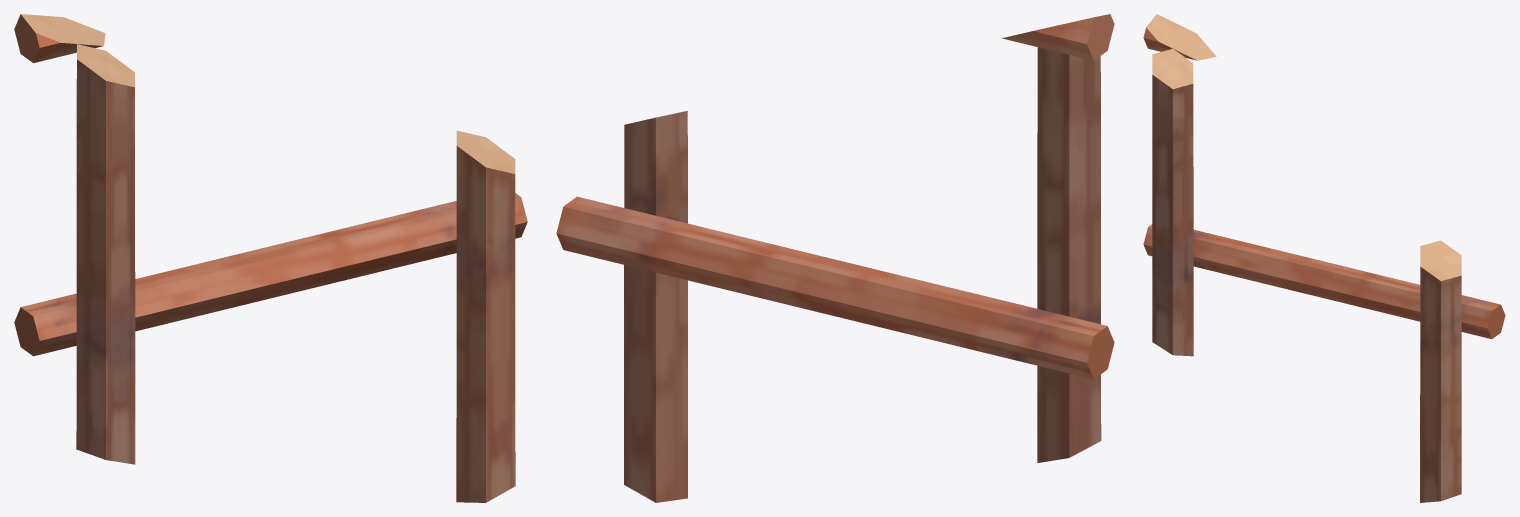
The model's file is ladder_s04.fbx.
3 views of the same model, side by side, from view 1: azimuth 30°, elevation 25°; view 2: azimuth 150°, elevation 25°; view 3: azimuth 330°, elevation 25° (orthographic). The views are drawn at different scales.
Parts seen in each view (by area): view 1: ladder_s04; view 2: ladder_s04; view 3: ladder_s04.
Boxes of the visible parts, left/top/right/bottom form: ladder_s04: left=14, top=14, right=527, bottom=502; ladder_s04: left=556, top=14, right=1114, bottom=502; ladder_s04: left=1143, top=14, right=1505, bottom=502.
Size of the model in its own units: 2.44 by 2.69 by 0.4539.
